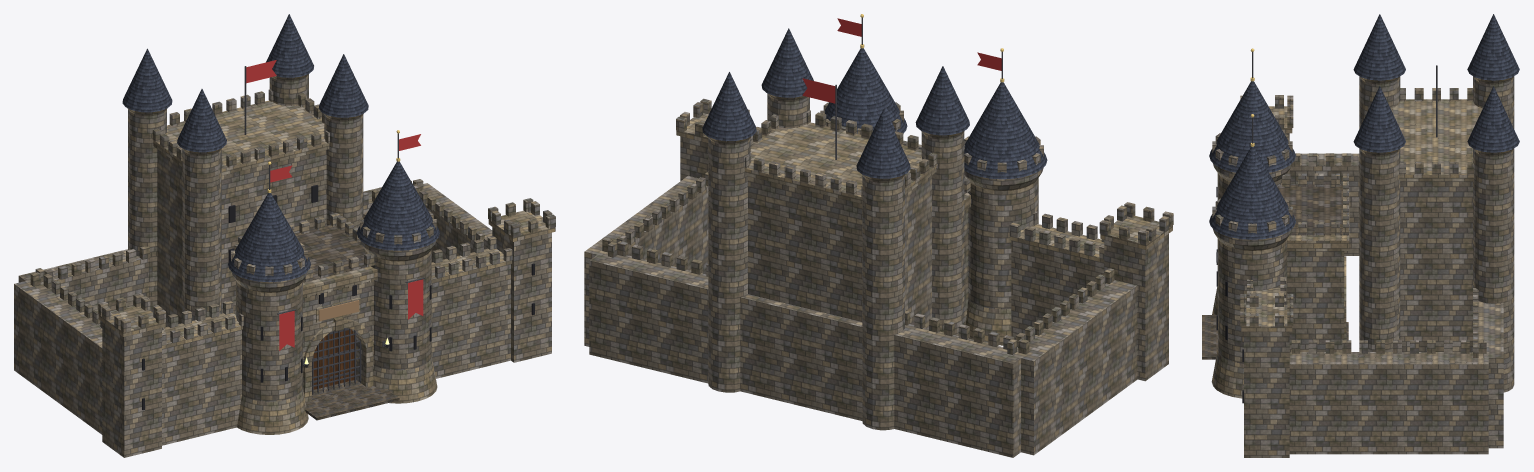
File: castle-gate.glb
3 views of the same model, side by side, from view 1: azimuth 30°, elevation 25°; view 2: azimuth 150°, elevation 25°; view 3: azimuth 270°, elevation 25° (orthographic). The views are drawn at different scales.
Parts seen in each view (by area): view 1: castle_body, portcullis, gate_door_r, banner_l, banner_r; view 2: castle_body; view 3: castle_body.
Part boxes in pixels (x1,y1,x2,y2): castle_body: [14, 14, 555, 457]; portcullis: [312, 328, 361, 394]; gate_door_r: [329, 328, 354, 385]; banner_l: [279, 311, 294, 350]; banner_r: [408, 279, 423, 319]; castle_body: [584, 14, 1173, 457]; castle_body: [1202, 14, 1519, 457].
Size of the model in its own units: 36.72 by 23.2 by 22.35.
11 materials, 5 textured.
